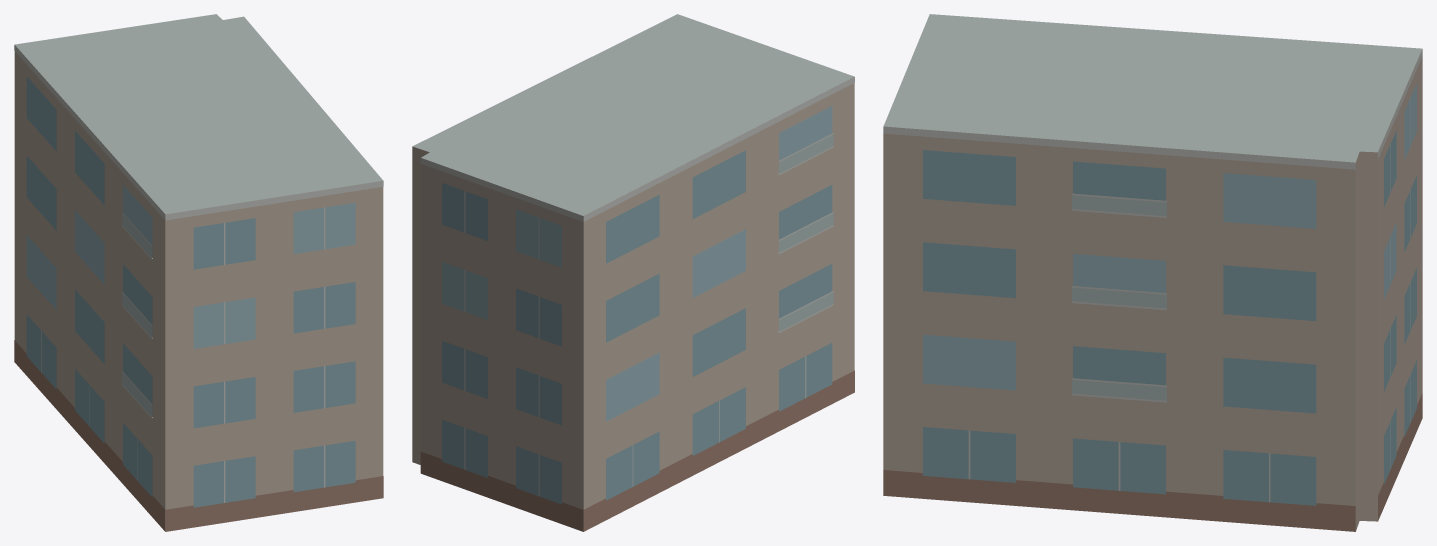
File: survey-upis-32878588.glb
The picture shows the model from 3 angles, left to right: view 1: azimuth 30°, elevation 25°; view 2: azimuth 150°, elevation 25°; view 3: azimuth 270°, elevation 25°; orthographic projection. The views are drawn at different scales.
Visible parts, largest first — view 1: survey-upis-32878588.tmp; view 2: survey-upis-32878588.tmp; view 3: survey-upis-32878588.tmp.
Boxes of the visible parts, box(x1,y1,x2,y2) form: survey-upis-32878588.tmp: box(14, 14, 383, 531); survey-upis-32878588.tmp: box(412, 14, 854, 531); survey-upis-32878588.tmp: box(883, 14, 1422, 531).
Size of the model in its own units: 11.06 by 12.8 by 16.95.
